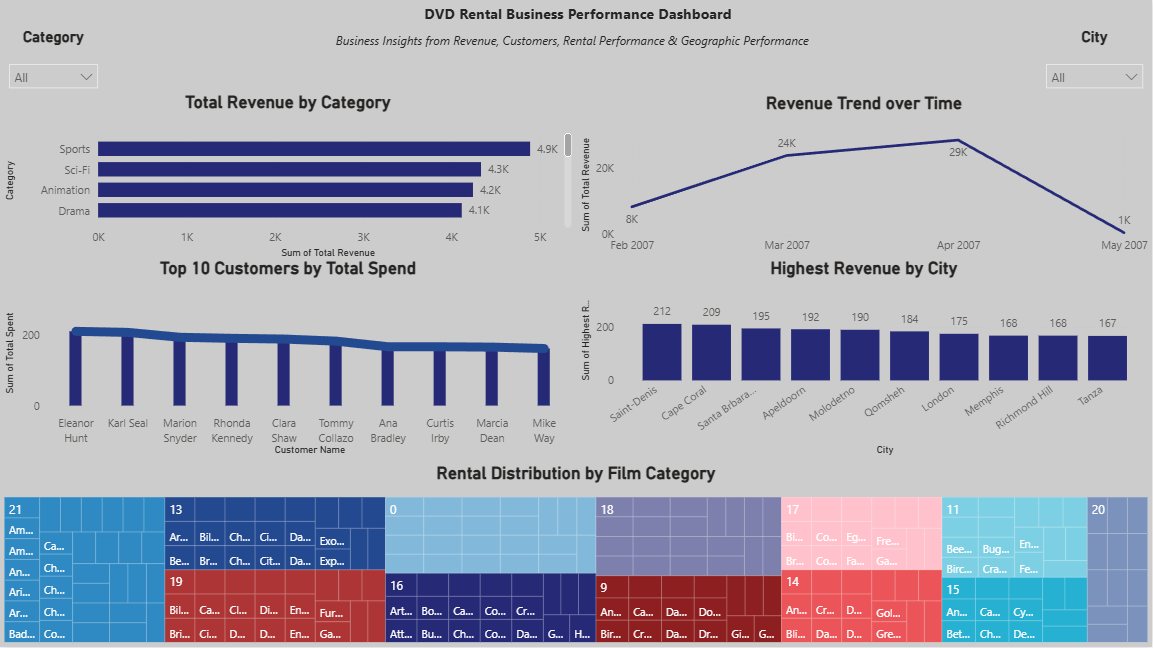

What the dashboard file says about the page in this screenshot:
{"tool":"powerbi","page":{"name":"DVD Rental Analysis","canvas":[1280,720],"ordinal":0},"visuals":[{"type":"clusteredBarChart","title":"Total Revenue by Category","fields":{"Category":["q1_revenue_by_category.Category"],"Y":["Sum(q1_revenue_by_category.Total Revenue)"]},"box":[0,103.8,640,188.8],"z":0},{"type":"lineStackedColumnComboChart","title":"Revenue Trend over Time","fields":{"Y":["Sum(q7_monthly_revenue_trend.Total Revenue)"],"Y2":["Sum(q7_monthly_revenue_trend.Total Revenue)"],"Category":["q7_monthly_revenue_trend.Monthly Trend"],"Series":["q7_monthly_revenue_trend.Total Revenue"]},"box":[640,104.3,640,187.1],"z":1000},{"type":"lineClusteredColumnComboChart","title":"Top 10 Customers by Total Spend","fields":{"Category":["q3_top_10_customers_by_spend.Customer Name"],"Y":["Sum(q3_top_10_customers_by_spend.Total Spent)"],"Y2":["Sum(q3_top_10_customers_by_spend.Total Spent)"]},"box":[0,288,640,224],"z":2000},{"type":"clusteredColumnChart","title":"Top 10 Revenue by City","fields":{"Category":["q10_revenue_by_city.City"],"Y":["Sum(q10_revenue_by_city.Highest Rental Revenue)"]},"box":[640,288,640,224],"z":3000},{"type":"treemap","title":"Rental Distribution by Film Category","fields":{"Group":["q5_most_rented_film_by_category.Category"],"Details":["q5_most_rented_film_by_category.Film Title"],"Values":["Sum(q5_most_rented_film_by_category.Total Rentals)"]},"box":[0,512,1280,208],"z":4000},{"type":"slicer","title":"Category","fields":{"Values":["Dim_Category.Category"]},"box":[0,0,128,96],"z":5000},{"type":"textbox","box":[880,0,400,32],"z":6000},{"type":"textbox","box":[720,48,552,48],"z":7000},{"type":"kpi","title":"Total Revenue","fields":{"Indicator":["Sum(q1_revenue_by_category.Total Revenue)"],"TrendLine":["q5_most_rented_film_by_category.Total Rentals"]},"box":[304,0,112,96],"z":8000},{"type":"cardVisual","title":"Total Rentals","fields":{"Data":["Min(q12_total_rentals.Total Rentals)"]},"box":[416,0,192,96],"z":9000},{"type":"cardVisual","title":"Total Customers","fields":{"Data":["Min(q13_total_customers.Total Customers)"]},"box":[128,0,176,96],"z":10000}]}

Visuals, with their boxes in screenshot pixels (x1, y1, x2, y2), scaled from the page's 1280x720 canvas onto the 1153x648 screenshot:
"Total Revenue by Category" clusteredBarChart: 0,93,576,263
"Revenue Trend over Time" lineStackedColumnComboChart: 576,94,1152,262
"Top 10 Customers by Total Spend" lineClusteredColumnComboChart: 0,259,576,461
"Top 10 Revenue by City" clusteredColumnChart: 576,259,1152,461
"Rental Distribution by Film Category" treemap: 0,461,1152,647
"Category" slicer: 0,0,115,86
textbox: 793,0,1152,29
textbox: 649,43,1146,86
"Total Revenue" kpi: 274,0,375,86
"Total Rentals" cardVisual: 375,0,548,86
"Total Customers" cardVisual: 115,0,274,86
